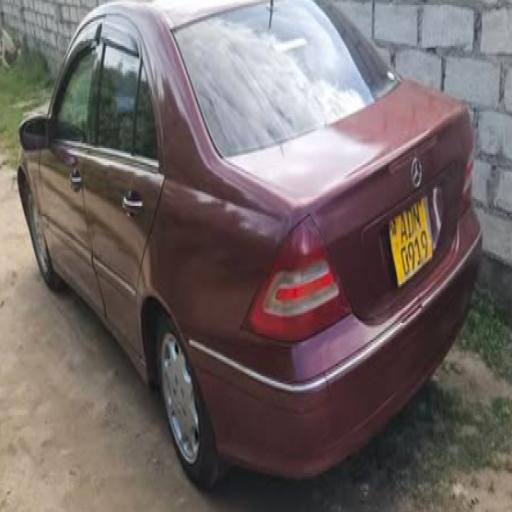number-plates: (386, 200, 438, 274)
